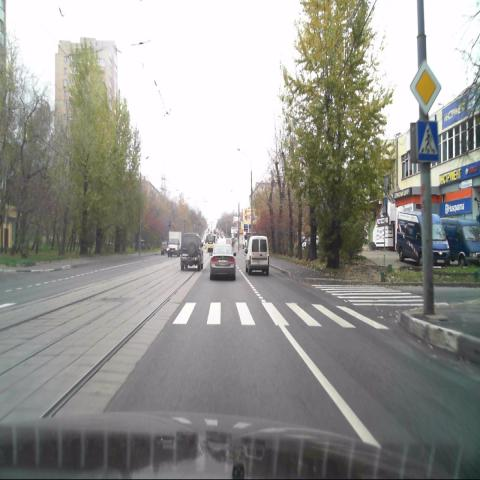2_1: (411, 61, 441, 114)
5_19_1: (417, 120, 439, 163)
